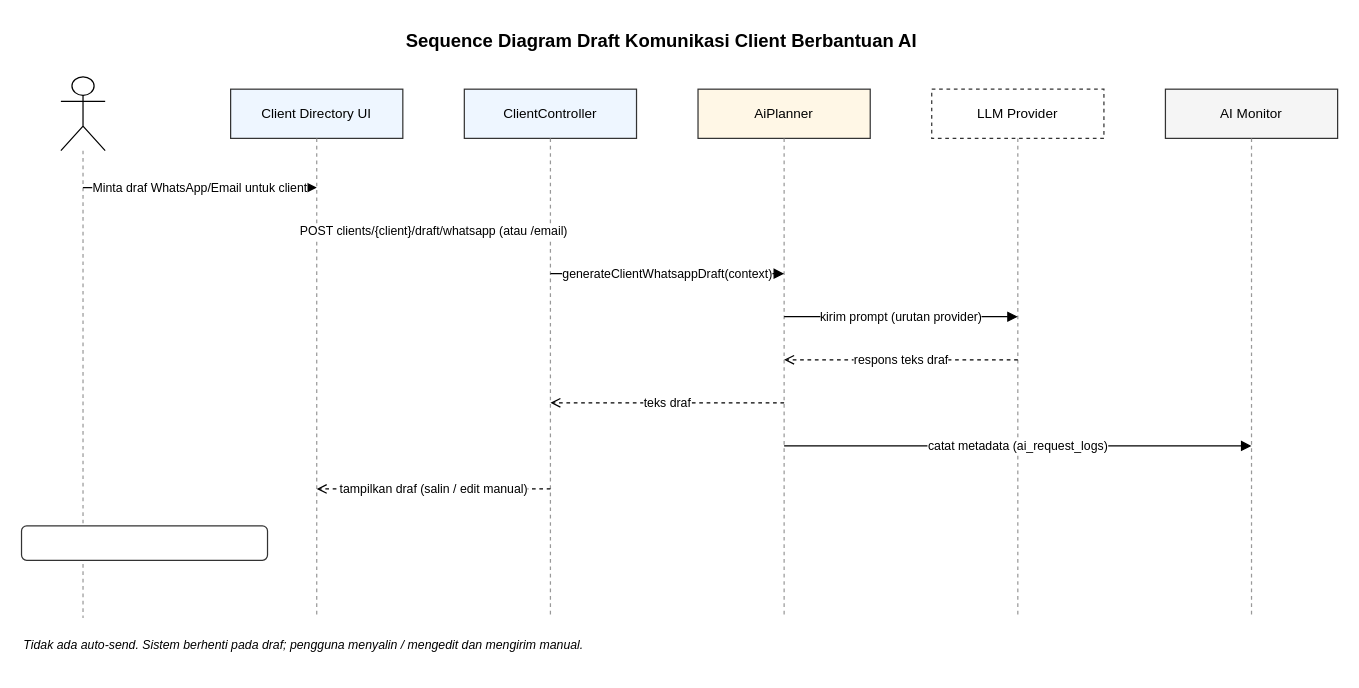
The diagram is 1359 pixels wide and 688 high, and some of its shapes have lost their labels. Each missing label, with the centre of its shape:
"CEO / PM" goes at [82,113].
"kirim sendiri via kanal eksternal" goes at [144,542].
